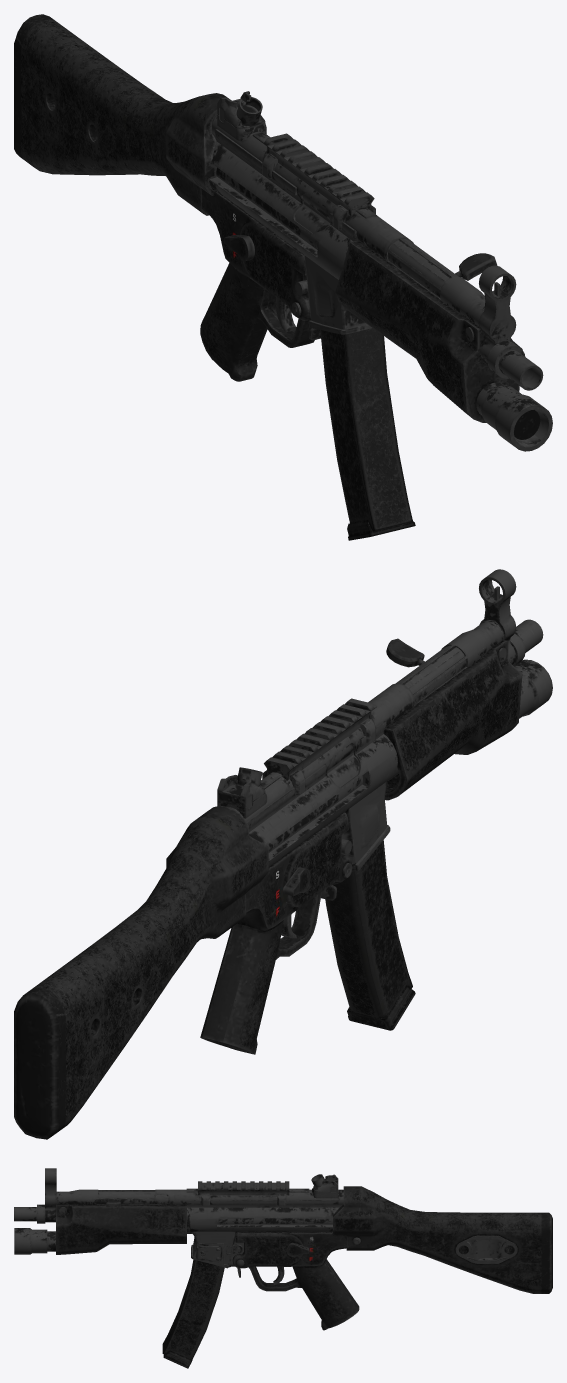
3 renders of one model, top to bottom at view 1: azimuth 30°, elevation 25°; view 2: azimuth 150°, elevation 25°; view 3: azimuth 270°, elevation 25°, orthographic. The views are drawn at different scales.
Visible parts, largest first — view 1: Receiver_low, Stock_low, Barrel_low, Mag_low, Bolt_low, CH_low; view 2: Receiver_low, Stock_low, Barrel_low, Mag_low, Bolt_low, CH_low; view 3: Receiver_low, Stock_low, Barrel_low, Mag_low, CH_low.
Part boxes in pixels (left/top/right/bottom): Receiver_low: left=200, top=91, right=485, bottom=381; Stock_low: left=14, top=14, right=231, bottom=215; Barrel_low: left=335, top=240, right=552, bottom=451; Mag_low: left=320, top=328, right=415, bottom=540; Bolt_low: left=295, top=193, right=330, bottom=233; CH_low: left=455, top=253, right=497, bottom=280; Receiver_low: left=200, top=620, right=503, bottom=1054; Stock_low: left=14, top=806, right=268, bottom=1139; Barrel_low: left=383, top=569, right=552, bottom=800; Mag_low: left=325, top=840, right=415, bottom=1030; Bolt_low: left=327, top=743, right=359, bottom=787; CH_low: left=386, top=638, right=424, bottom=667; Receiver_low: left=56, top=1174, right=359, bottom=1330; Stock_low: left=333, top=1186, right=552, bottom=1293; Barrel_low: left=14, top=1168, right=186, bottom=1254; Mag_low: left=162, top=1259, right=224, bottom=1368; CH_low: left=94, top=1194, right=169, bottom=1207.
Size of the model in its own units: 0.0672 by 0.2587 by 0.6515.
Materials: 2 (2 with a texture image).
